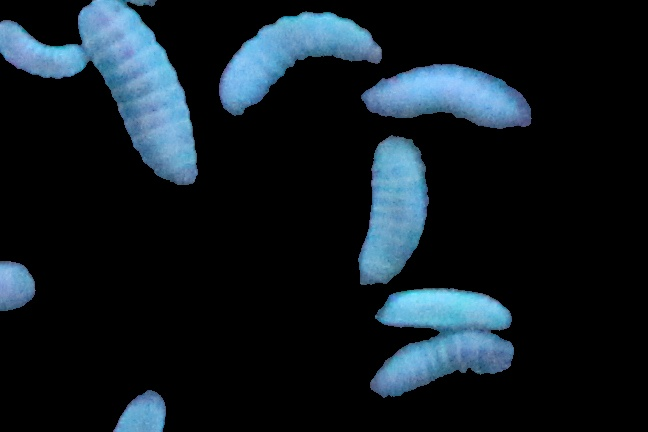larvae: (95, 5, 213, 188), (218, 10, 381, 122), (350, 130, 430, 279), (359, 63, 530, 132), (370, 345, 524, 405), (1, 19, 90, 79), (378, 290, 515, 328)
